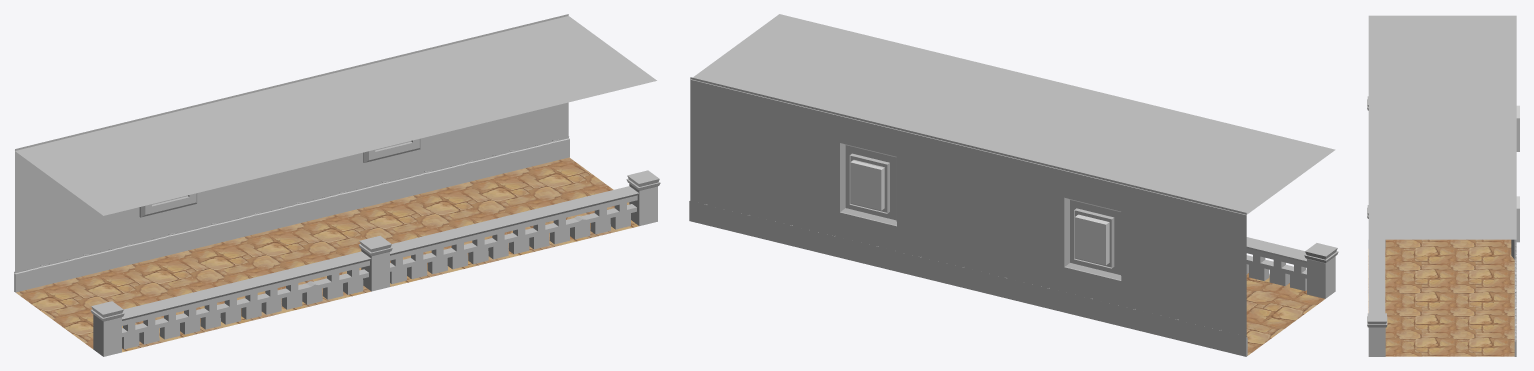
Rendered from wall2.fbx.
3 renders of one model, left to right at view 1: azimuth 30°, elevation 25°; view 2: azimuth 150°, elevation 25°; view 3: azimuth 270°, elevation 25°, orthographic. The views are drawn at different scales.
Visible parts, largest first — view 1: Plane.004, Plane, Plane.002, Plane.003, Plane.001; view 2: Plane.002, Plane.004, Plane.001, Plane.003, Plane, Plane.008; view 3: Plane.004, Plane, Plane.003, Plane.008, Plane.001.
Part boxes in pixels (bbox=[...]): Plane.004: bbox=[15, 16, 656, 215]; Plane: bbox=[16, 157, 638, 352]; Plane.002: bbox=[15, 14, 568, 273]; Plane.003: bbox=[90, 170, 660, 356]; Plane.001: bbox=[14, 136, 569, 292]; Plane.002: bbox=[690, 77, 1246, 336]; Plane.004: bbox=[690, 14, 1335, 214]; Plane.001: bbox=[689, 201, 1247, 356]; Plane.003: bbox=[1246, 237, 1338, 298]; Plane: bbox=[1246, 273, 1324, 355]; Plane.008: bbox=[850, 160, 1109, 265]; Plane.004: bbox=[1368, 15, 1516, 239]; Plane: bbox=[1368, 239, 1516, 356]; Plane.003: bbox=[1367, 96, 1387, 356]; Plane.008: bbox=[1515, 105, 1519, 242]; Plane.001: bbox=[1514, 242, 1516, 356].
Size of the model in its own units: 5231 by 1281 by 1497.
